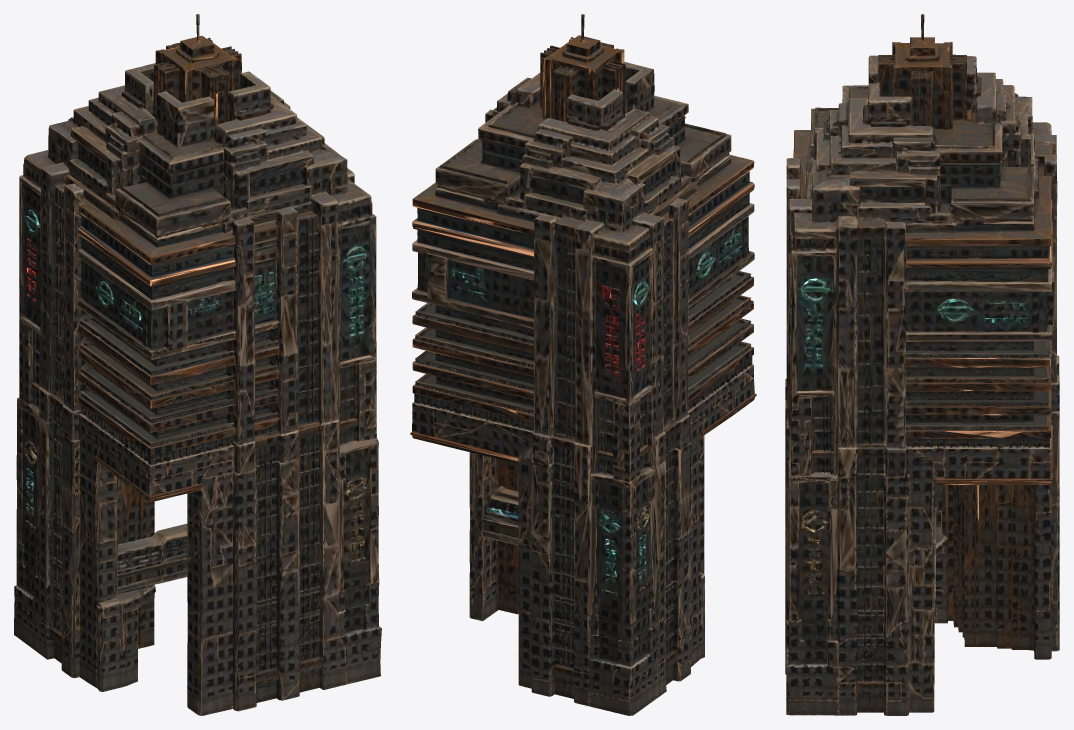
3 views of the same model, side by side, from view 1: azimuth 30°, elevation 25°; view 2: azimuth 150°, elevation 25°; view 3: azimuth 270°, elevation 25° (orthographic). The views are drawn at different scales.
Visible parts, largest first — view 1: m05; view 2: m05; view 3: m05.
Part boxes in pixels (bbox=[...]): m05: bbox=[14, 14, 381, 715]; m05: bbox=[410, 14, 756, 715]; m05: bbox=[785, 14, 1059, 715].
Bounding box in the file's own units: 77.25 × 200 × 77.28.
Materials: 1 (1 with a texture image).
